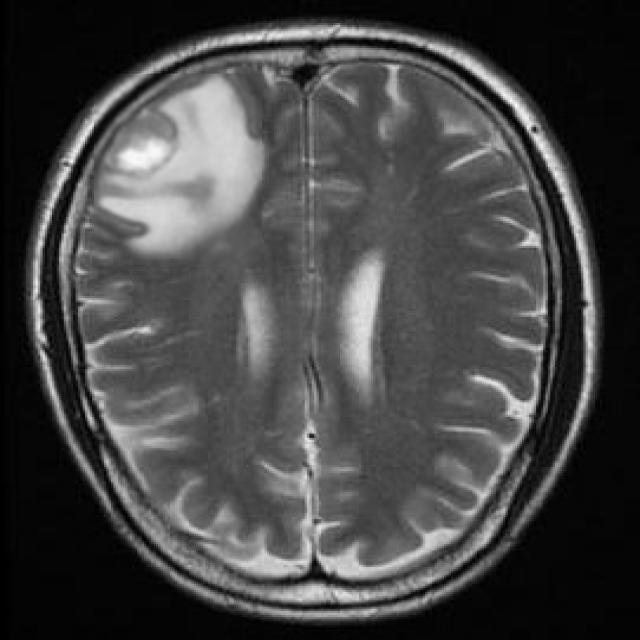Tumor: (95, 75, 262, 258), (101, 112, 174, 174)
